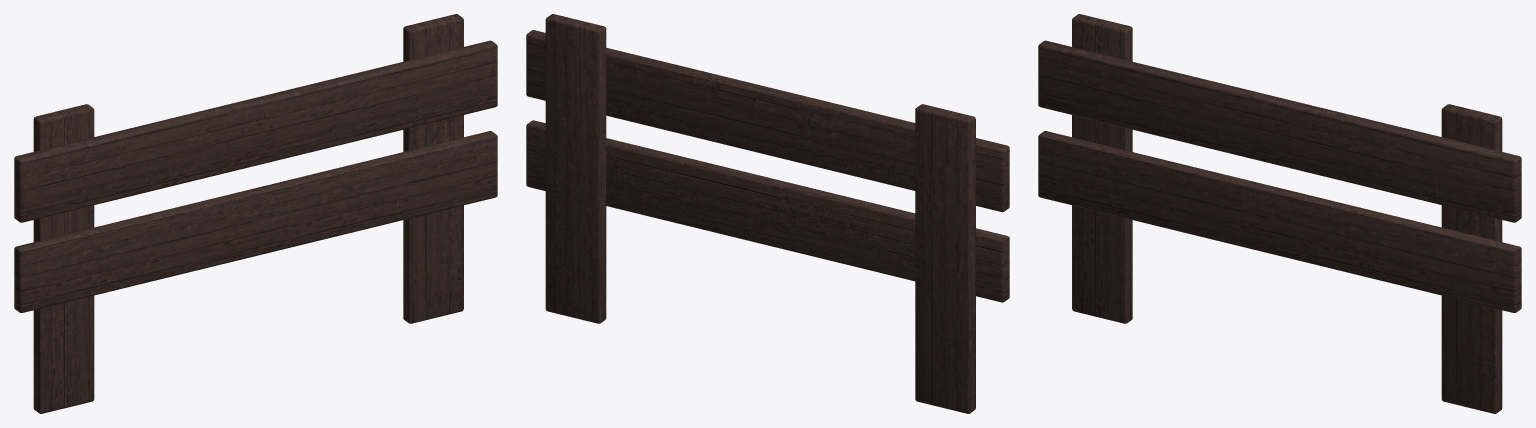
Rendered from fence.glb.
3 renders of one model, left to right at view 1: azimuth 30°, elevation 25°; view 2: azimuth 150°, elevation 25°; view 3: azimuth 330°, elevation 25°, orthographic.
Parts seen in each view (by area): view 1: Cube; view 2: Cube; view 3: Cube.
Part boxes in pixels (x1,y1,x2,y2): Cube: (14,14,497,413); Cube: (526,14,1009,413); Cube: (1038,14,1521,413).
Bounding box in the file's own units: 0.7769 × 0.456 × 0.0406.
1 material, 1 textured.
